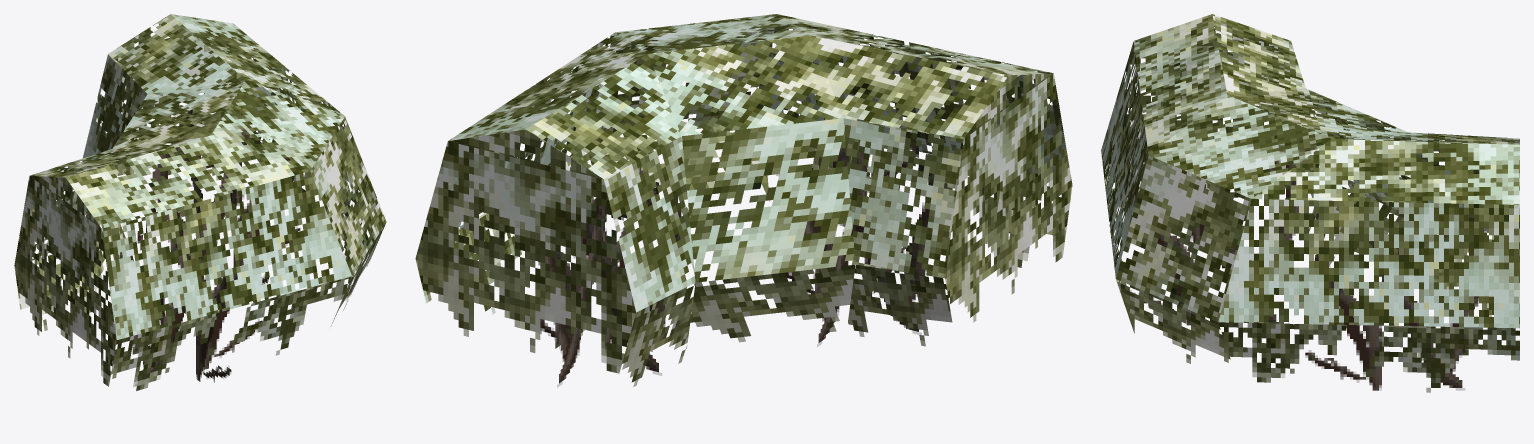
The model's file is bush_round_corner_roots_winter.glb.
3 views of the same model, side by side, from view 1: azimuth 30°, elevation 25°; view 2: azimuth 150°, elevation 25°; view 3: azimuth 270°, elevation 25° (orthographic). The views are drawn at different scales.
Visible parts, largest first — view 1: bush_round_corner_roots_winter; view 2: bush_round_corner_roots_winter; view 3: bush_round_corner_roots_winter.
Boxes of the visible parts, x1=… form: bush_round_corner_roots_winter: x1=14, y1=14, x2=386, y2=390; bush_round_corner_roots_winter: x1=415, y1=14, x2=1072, y2=387; bush_round_corner_roots_winter: x1=1101, y1=14, x2=1519, y2=392.
Bounding box in the file's own units: 1.36 × 0.8765 × 1.35.
Materials: 2 (2 with a texture image).
